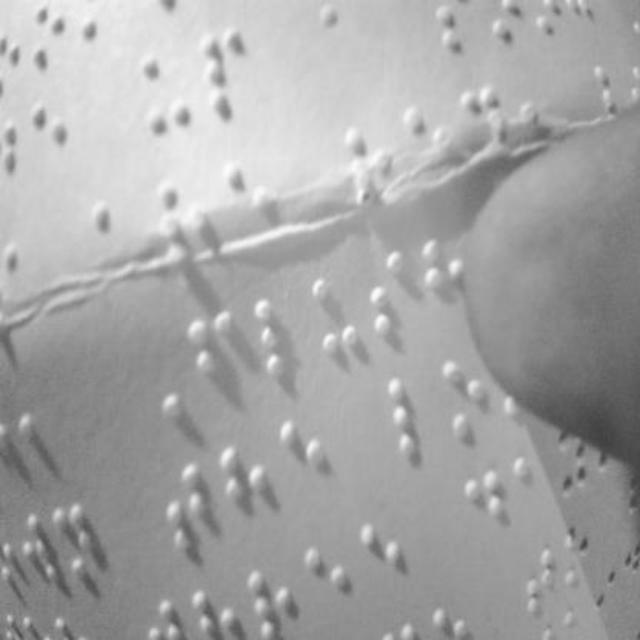braiile: (362, 242, 414, 348), (143, 40, 199, 138), (158, 457, 214, 553), (26, 92, 78, 192), (276, 415, 330, 511), (442, 356, 496, 452), (254, 296, 314, 382), (202, 26, 254, 124), (463, 470, 513, 570), (187, 307, 237, 405), (53, 484, 105, 578), (310, 273, 366, 359), (390, 368, 442, 460), (220, 438, 270, 532), (249, 552, 301, 640), (305, 542, 355, 626), (362, 520, 408, 610)
